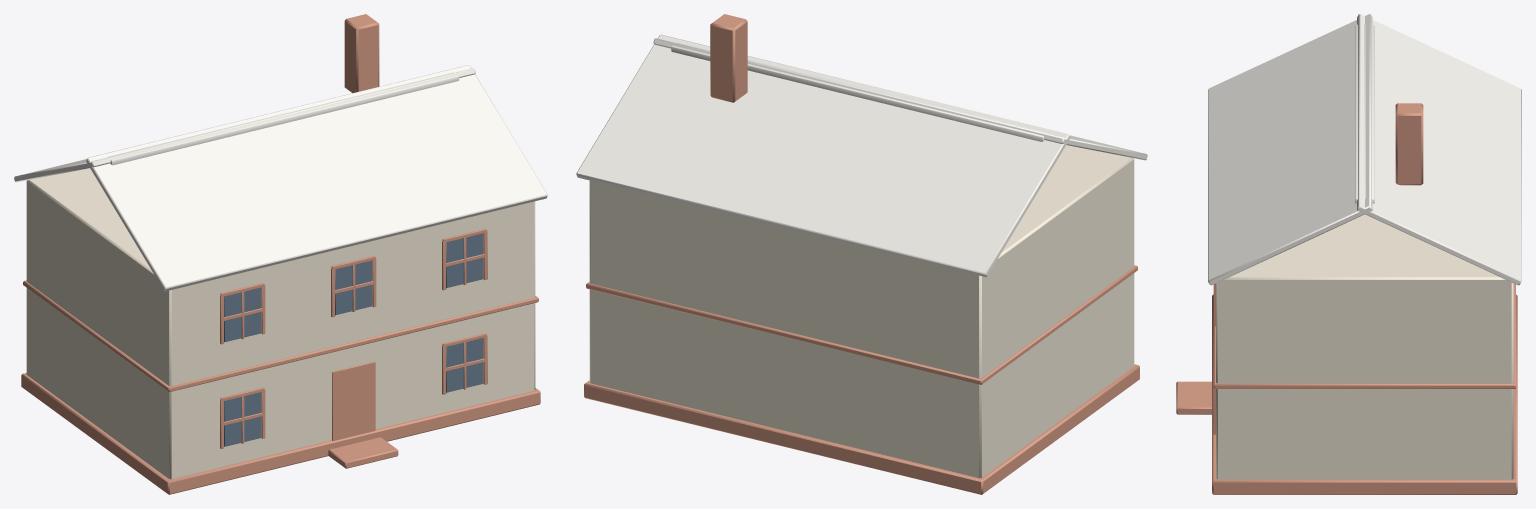
File: house_b.glb
The picture shows the model from 3 angles, left to right: view 1: azimuth 30°, elevation 25°; view 2: azimuth 150°, elevation 25°; view 3: azimuth 270°, elevation 25°; orthographic projection. The views are drawn at different scales.
Parts seen in each view (by area): view 1: house_b; view 2: house_b; view 3: house_b.
Part boxes in pixels (box(x1,y1,x2,y2)): house_b: box(14, 14, 547, 494); house_b: box(576, 14, 1147, 494); house_b: box(1176, 14, 1521, 494).
Bounding box in the file's own units: 11.5 × 9.68 × 8.7.
